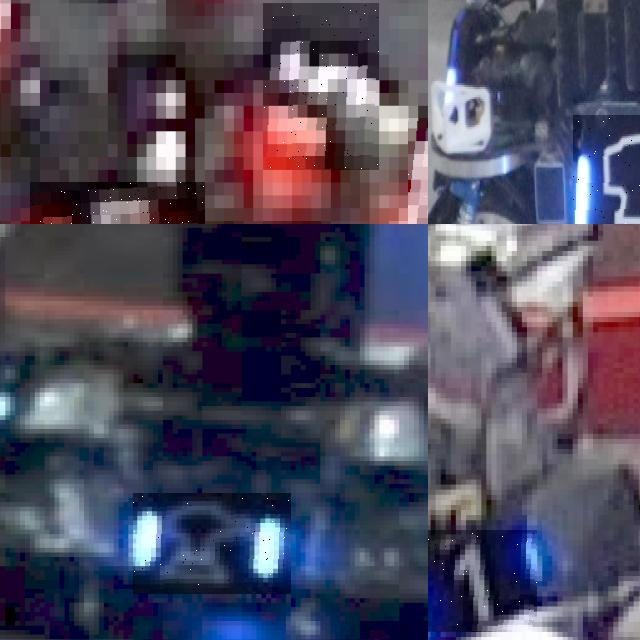B1: (428, 530, 537, 631)
Bs: (133, 493, 291, 594), (572, 115, 640, 224)
R5: (263, 3, 379, 170), (30, 182, 204, 224)
